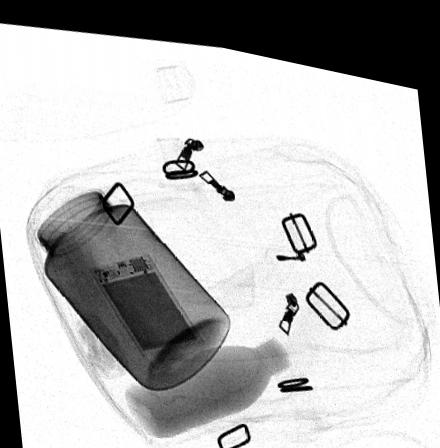Powerbank: (87, 244, 200, 352)
